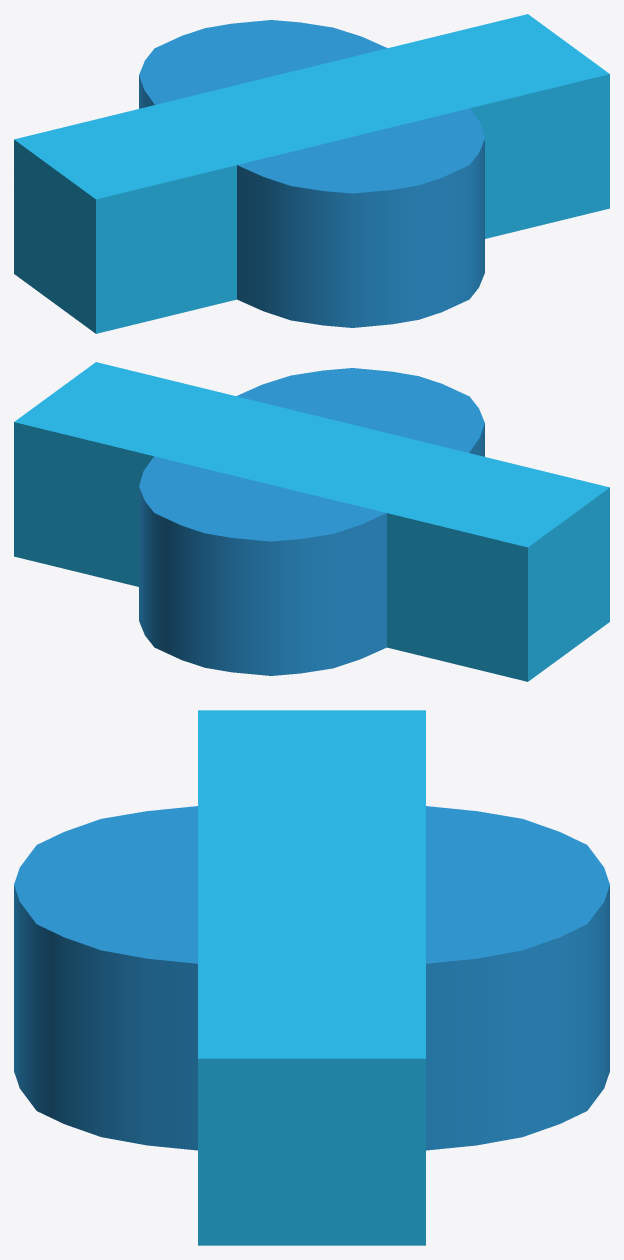
The model's file is Ground Circle.fbx.
3 renders of one model, top to bottom at view 1: azimuth 30°, elevation 25°; view 2: azimuth 150°, elevation 25°; view 3: azimuth 270°, elevation 25°, orthographic. The views are drawn at different scales.
Parts seen in each view (by area): view 1: Ground Circle; view 2: Ground Circle; view 3: Ground Circle.
Boxes of the visible parts, box(x1,y1,x2,y2) form: Ground Circle: box(14, 14, 609, 333); Ground Circle: box(14, 362, 609, 681); Ground Circle: box(14, 710, 609, 1245).
Size of the model in its own units: 800 by 200 by 578.
